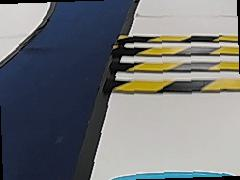bump: (113, 27, 239, 99)
